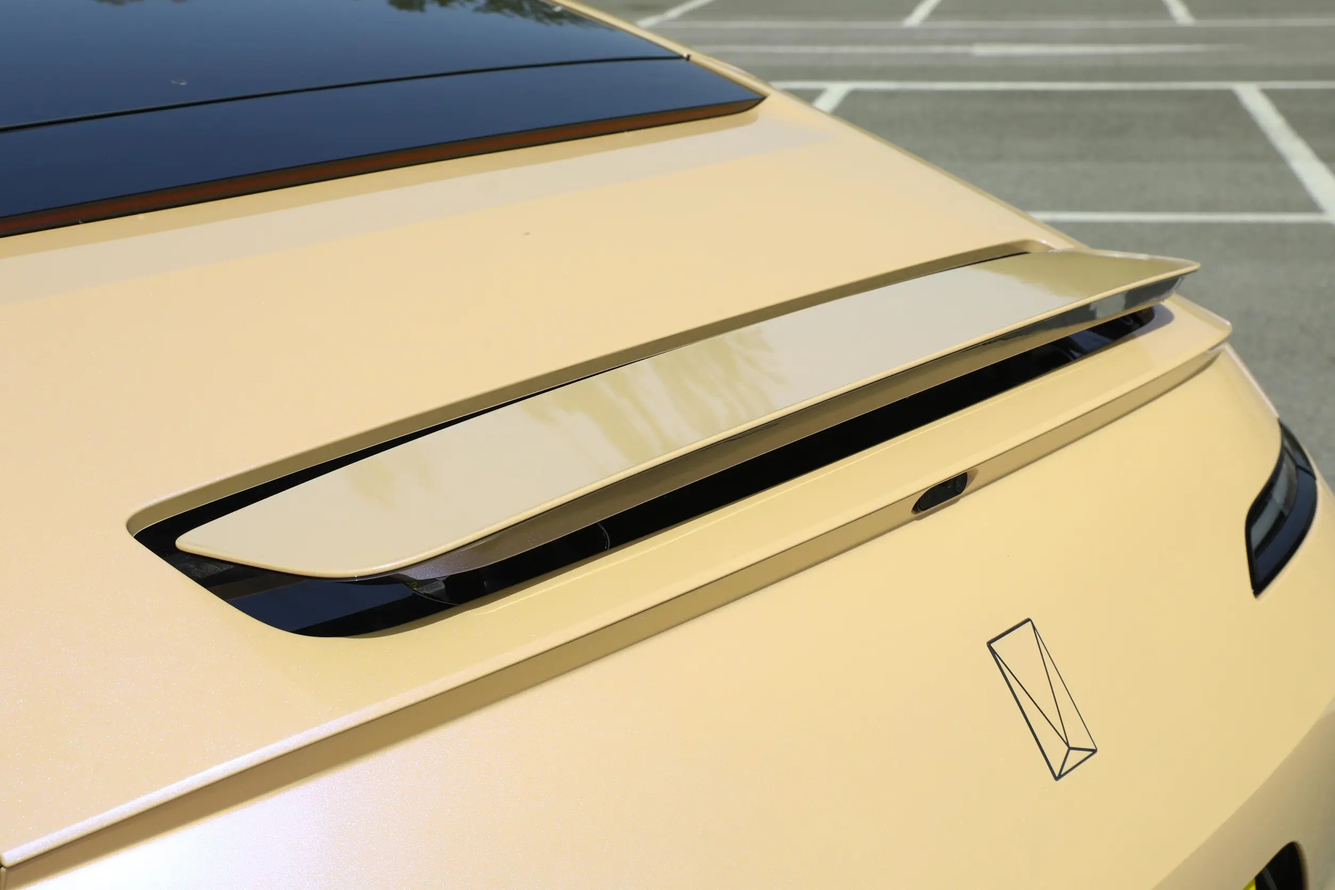AVATR: (986, 618, 1098, 781)
